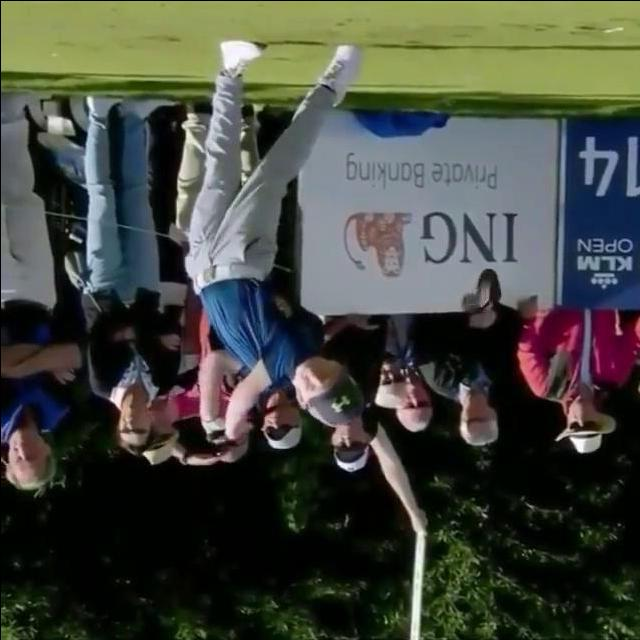golf club-handle: (203, 267, 500, 441)
golf club-head: (466, 269, 499, 324)
